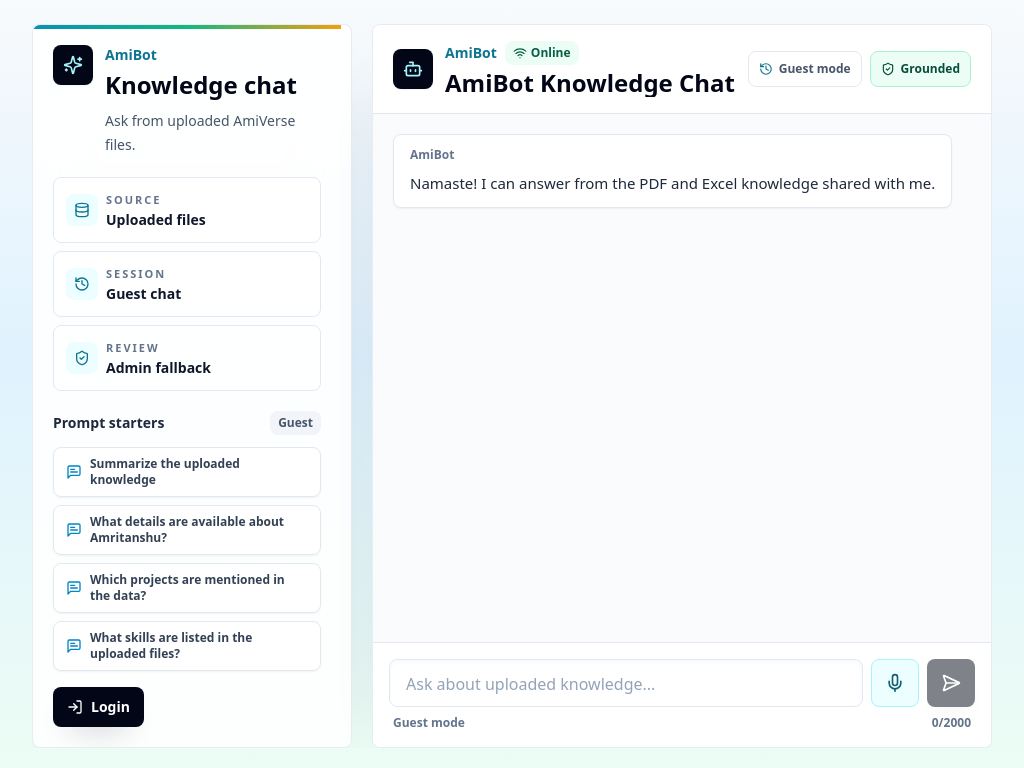
Test: recovers from a non-text answer and excludes the error from subsequent model context
Type "When will the next project launch?" into the text box named "type your message". click: (626, 683)
box: [389, 659, 863, 707]
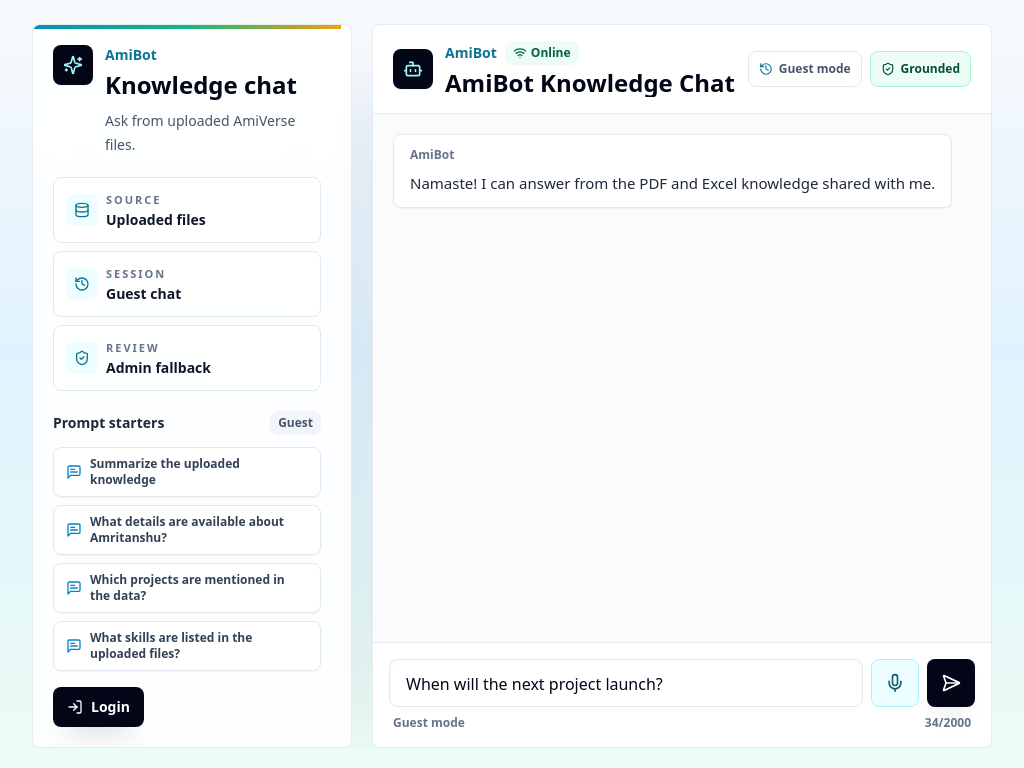
Click the button named "send message". click: (951, 683)
box: [927, 659, 975, 707]
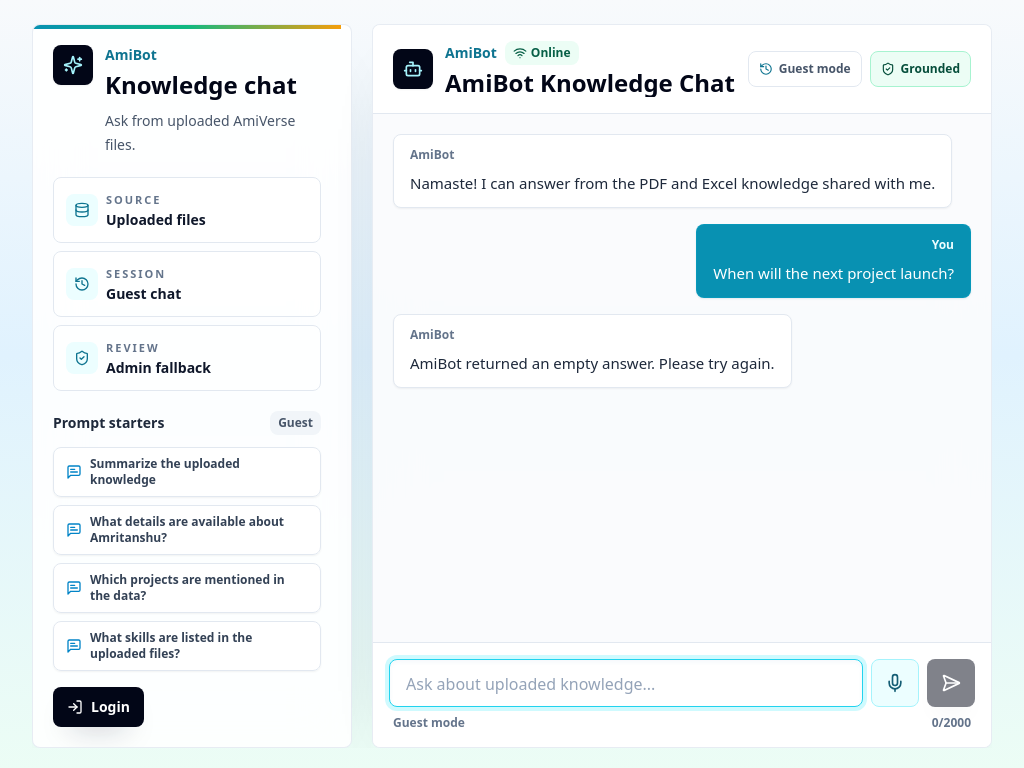
Result: the text "AmiBot returned an empty answer. Please try again." is shown at [410, 351, 775, 375]
Type "Try again" into the text box named "type your message". click: (626, 683)
box: [389, 659, 863, 707]
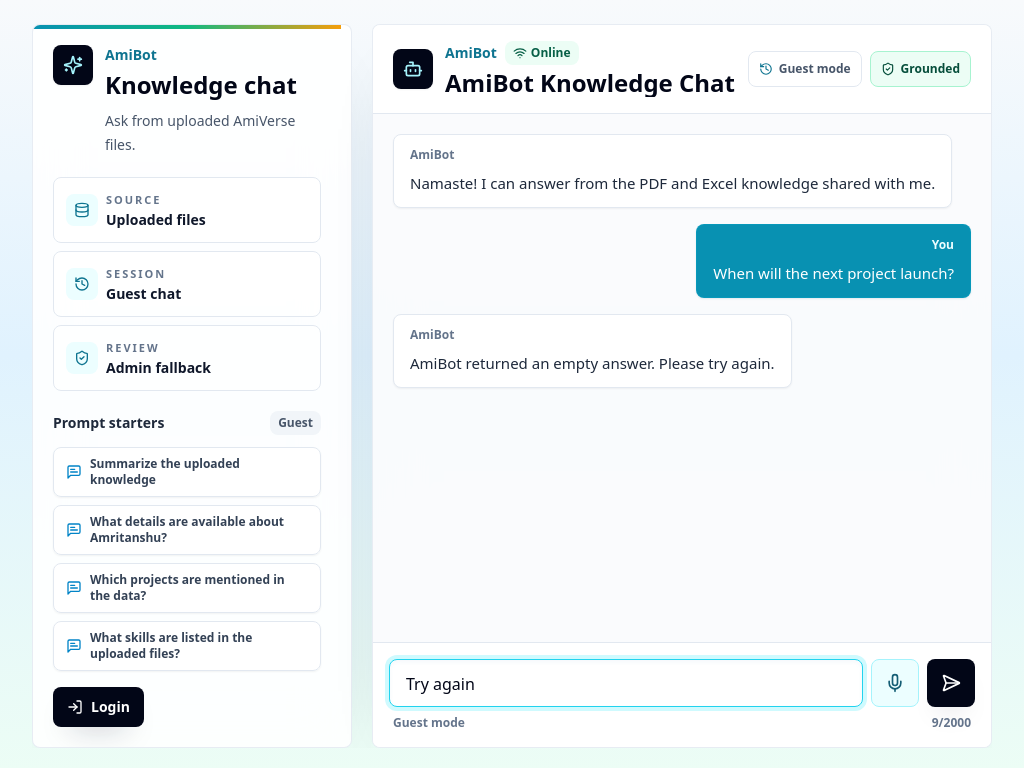
Click the button named "send message". click: (951, 683)
box: [927, 659, 975, 707]
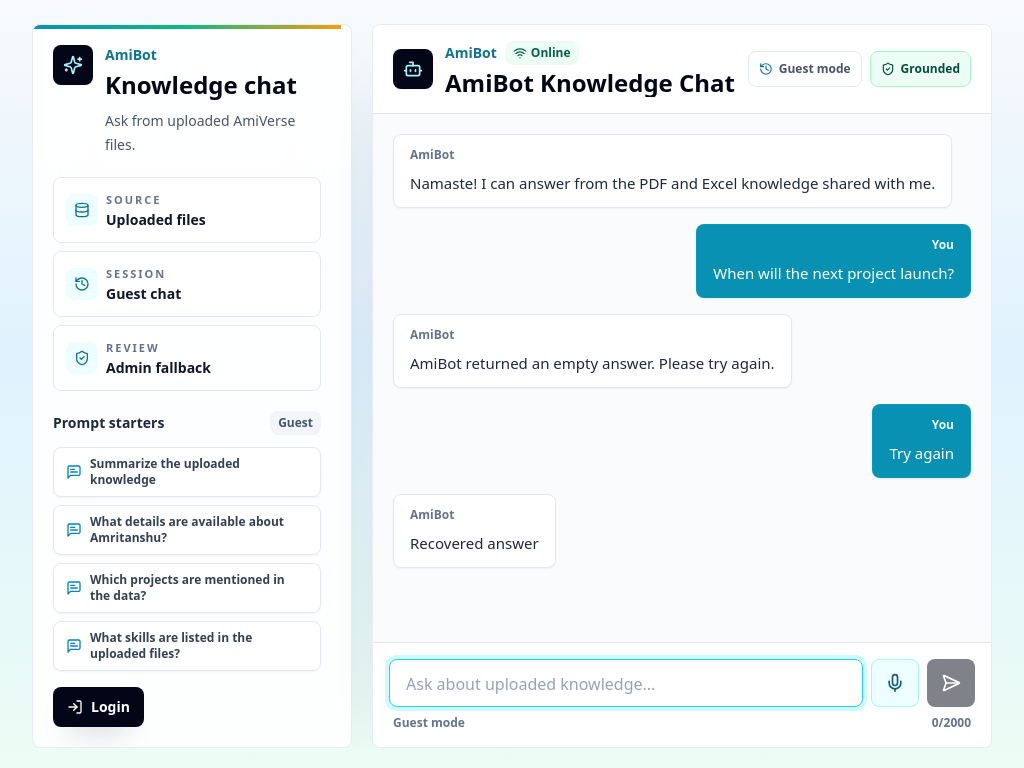
Result: the text "Recovered answer" is shown at [410, 531, 539, 555]
